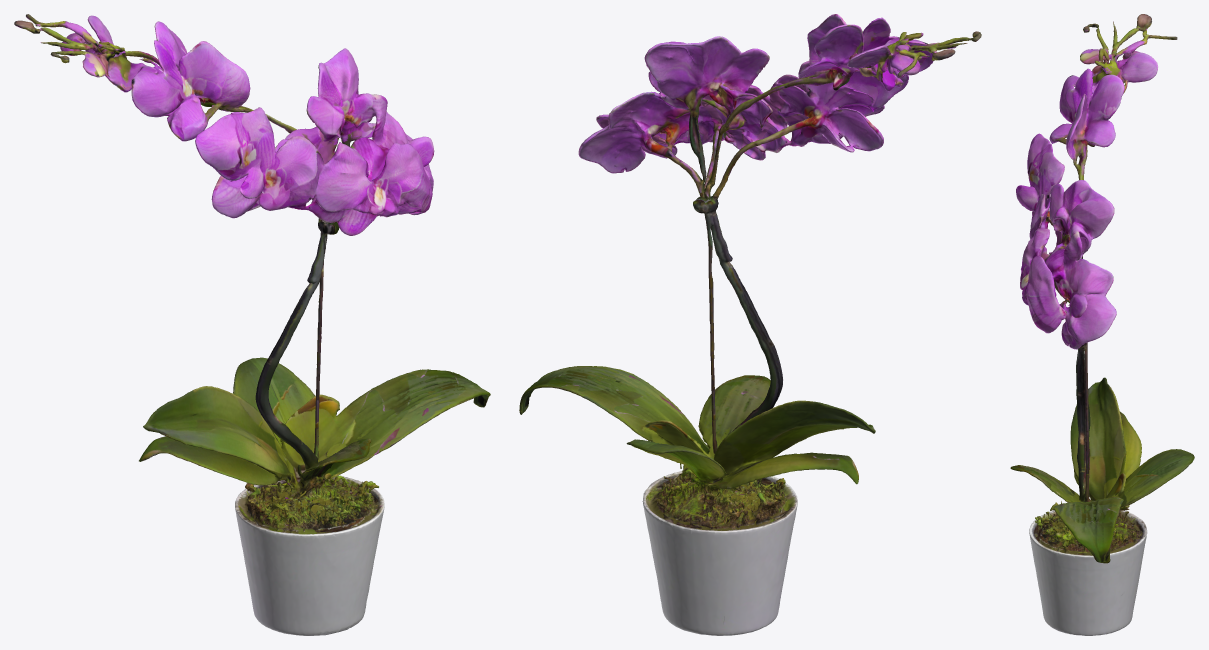
File: Orhidee3dModel.glb
3 views of the same model, side by side, from view 1: azimuth 30°, elevation 25°; view 2: azimuth 150°, elevation 25°; view 3: azimuth 270°, elevation 25° (orthographic). The views are drawn at different scales.
Size of the model in its own units: 1.47 by 2 by 0.6633.
1 material, 1 textured.
